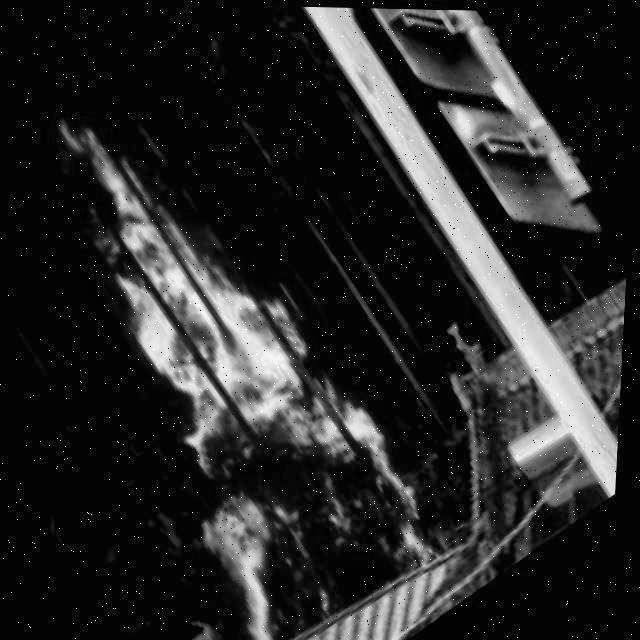Fire: (0, 79, 472, 640)
